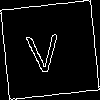V: (25, 25, 61, 75)
